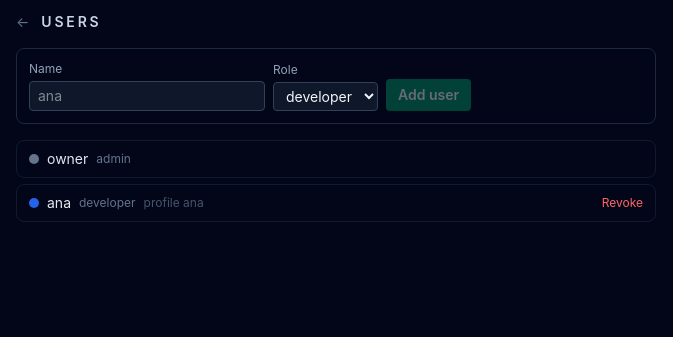
Test case: Users settings › admin adds a user and sees the token once
This screenshot has width=673, height=337.
Expected: the text "ana" is shown, [47,193,71,213]
Type "bob" into the field labelled "Name" at coordinates (147, 96), box [29,81,265,111]
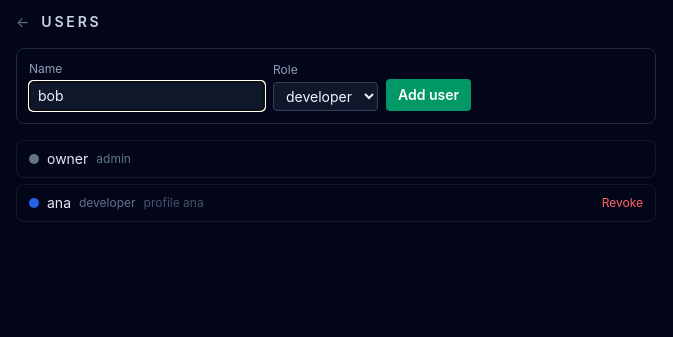
Select "observer" in the dropdown labelled "Role" at coordinates (326, 96), box [273,82,378,111]
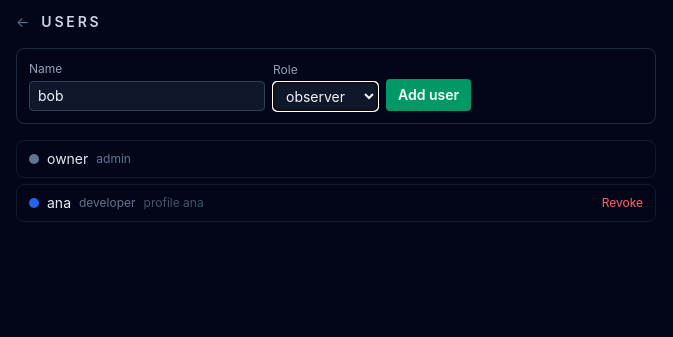
Click the button "Add user" at coordinates (429, 95), box [386,79,471,111]
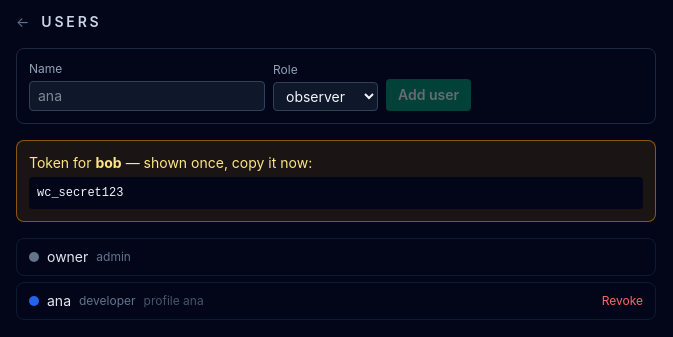
Now the text with test id "new-token" reads "wc_secret123", box [37,186,123,200]
Now the field labelled "Name" is empty, box [29,81,265,111]
